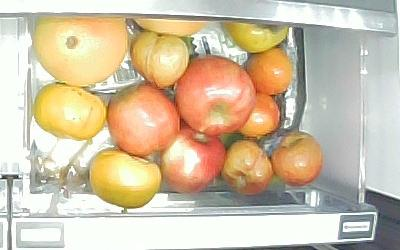apple: (174, 54, 256, 136), (105, 82, 182, 156), (159, 126, 226, 195)
grapefruit: (30, 14, 130, 88), (133, 18, 210, 38)
persimmon: (89, 148, 162, 209), (32, 82, 107, 140), (221, 19, 289, 52)
prune: (129, 32, 189, 89), (222, 138, 274, 197), (273, 130, 323, 186), (244, 47, 292, 96), (236, 93, 283, 138)
